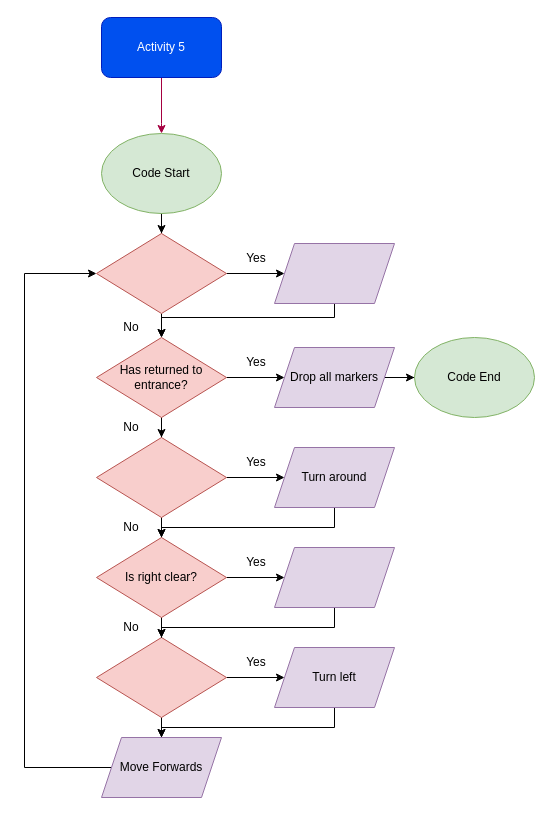
This 552x815 diagram has some shape labels left out. Here are the shapes that lost their labels. From the top down, the centre of each, then its label:
At (161,273): "Is on a marker?".
At (334,273): "Pick up a marker".
At (161,477): "Is at end of maze?".
At (334,577): "Turn right".
At (161,677): "Is left clear?".
